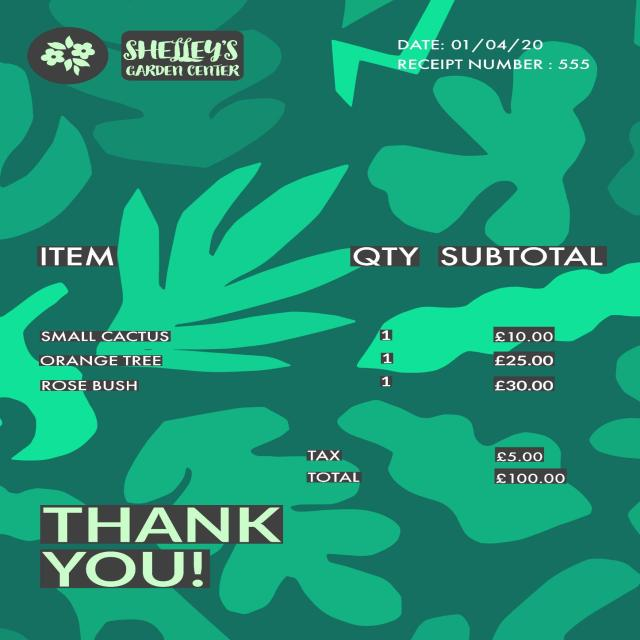paragraph: (35, 500, 297, 597), (293, 438, 580, 489), (383, 32, 600, 74), (120, 34, 245, 82)
table: (15, 241, 621, 399)
